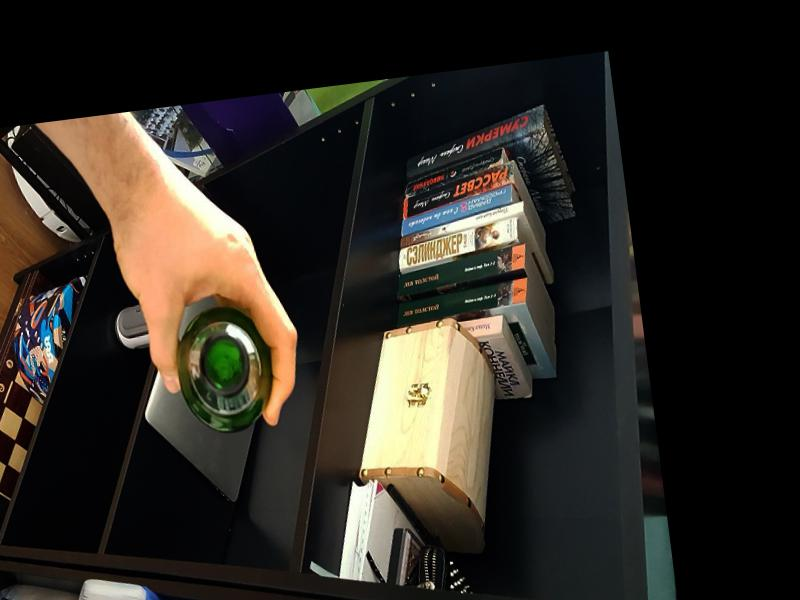Beer: (169, 304, 277, 431)
